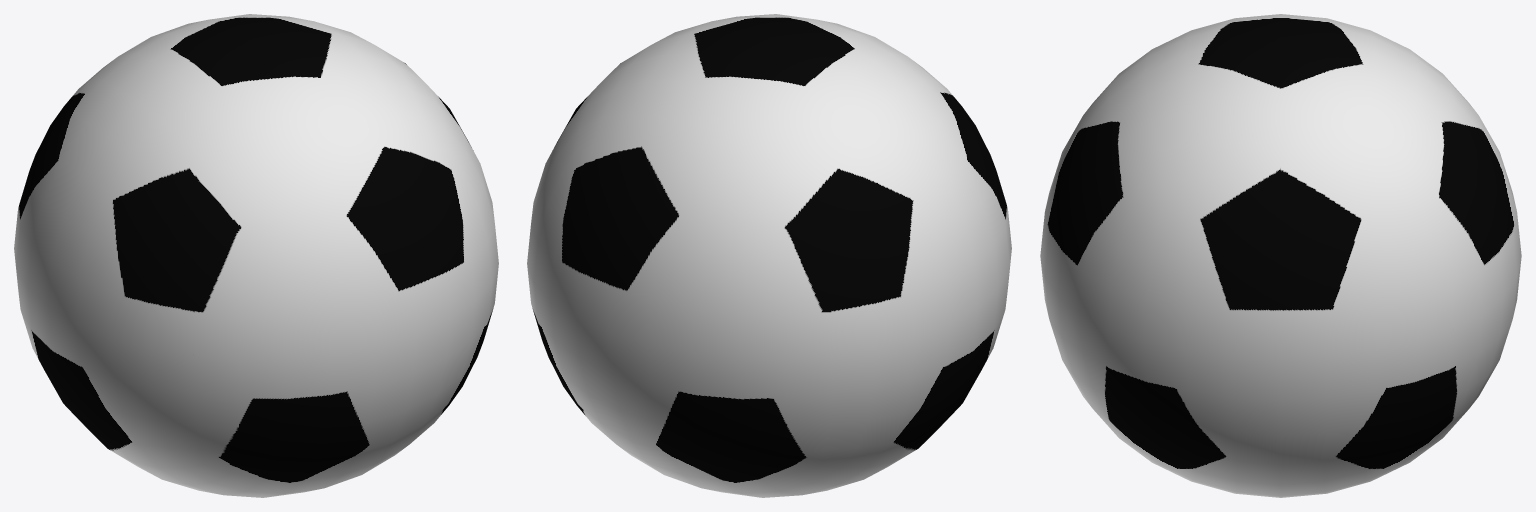
The model's file is ball.glb.
3 views of the same model, side by side, from view 1: azimuth 30°, elevation 25°; view 2: azimuth 150°, elevation 25°; view 3: azimuth 270°, elevation 25° (orthographic).
Visible parts, largest first — view 1: Cube; view 2: Cube; view 3: Cube.
Boxes of the visible parts, x1,y1,x2,y2 form: Cube: (14, 14, 498, 497); Cube: (527, 14, 1011, 497); Cube: (1040, 14, 1521, 497).
Bounding box in the file's own units: 1.7 × 1.7 × 1.7.
1 material, 1 textured.
